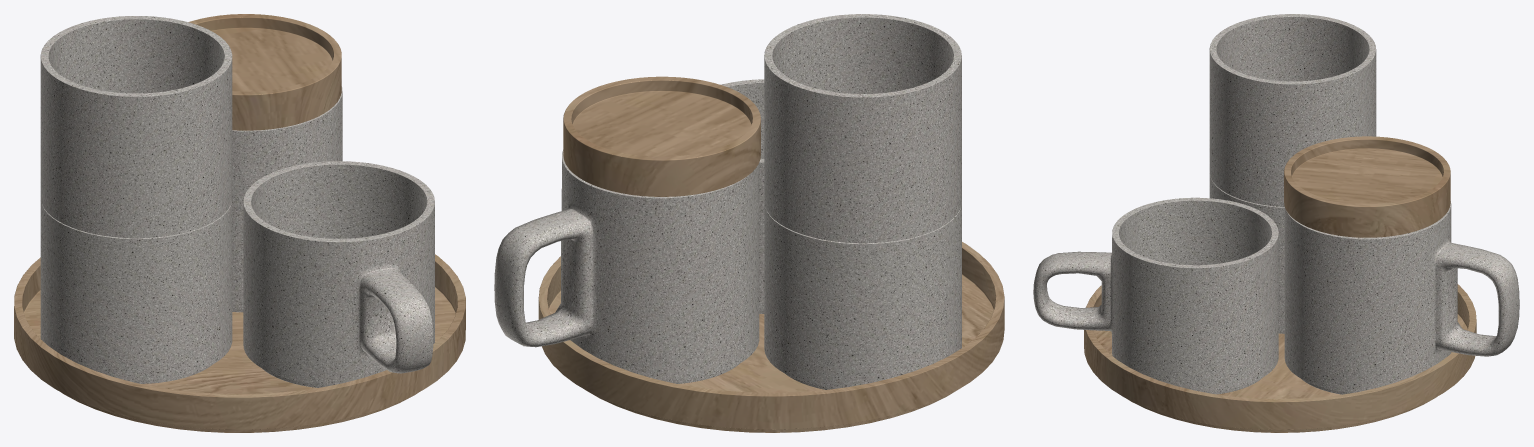
Rendered from tea_cup_set.glb.
3 renders of one model, left to right at view 1: azimuth 30°, elevation 25°; view 2: azimuth 150°, elevation 25°; view 3: azimuth 270°, elevation 25°, orthographic. The views are drawn at different scales.
Parts seen in each view (by area): view 1: SM_Kitchen_Decor_9; view 2: SM_Kitchen_Decor_9; view 3: SM_Kitchen_Decor_9.
Boxes of the visible parts, bbox=[...] form: SM_Kitchen_Decor_9: bbox=[14, 14, 465, 432]; SM_Kitchen_Decor_9: bbox=[494, 14, 1004, 432]; SM_Kitchen_Decor_9: bbox=[1033, 14, 1519, 432].
Size of the model in its own units: 0.1961 by 0.1456 by 0.2428.
2 materials, 2 textured.
